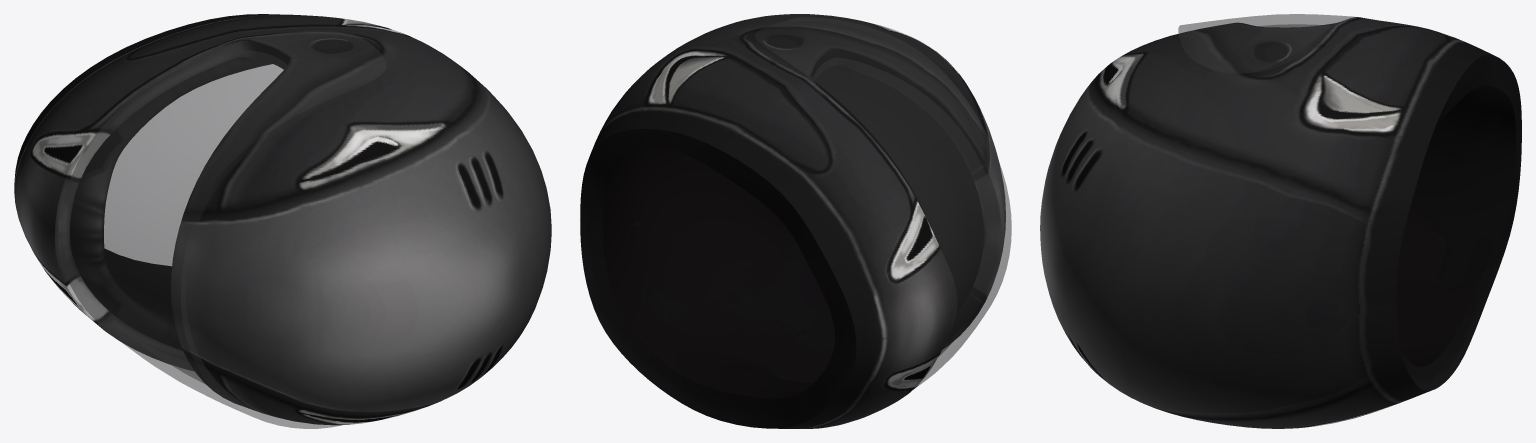
The model's file is casco.obj.
3 views of the same model, side by side, from view 1: azimuth 30°, elevation 25°; view 2: azimuth 150°, elevation 25°; view 3: azimuth 270°, elevation 25° (orthographic). The views are drawn at different scales.
Visible parts, largest first — view 1: 10517_Motorcycle_Helmet_v01; view 2: 10517_Motorcycle_Helmet_v01; view 3: 10517_Motorcycle_Helmet_v01.
Boxes of the visible parts, x1,y1,x2,y2 form: 10517_Motorcycle_Helmet_v01: [14, 14, 551, 428]; 10517_Motorcycle_Helmet_v01: [580, 14, 1011, 428]; 10517_Motorcycle_Helmet_v01: [1040, 14, 1521, 428].
Bounding box in the file's own units: 40.2 × 33.54 × 40.36.
2 materials, 1 textured.
